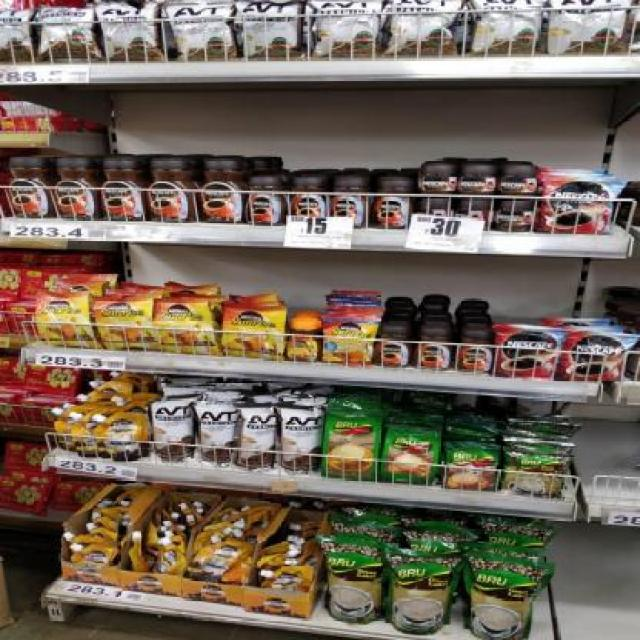Coffee: (542, 179, 612, 233), (148, 158, 197, 222), (498, 326, 556, 380), (196, 160, 244, 225), (51, 157, 100, 220), (157, 299, 214, 352), (224, 307, 281, 359), (100, 155, 145, 220), (6, 156, 51, 220), (38, 292, 91, 346), (95, 296, 151, 346), (564, 334, 624, 380), (324, 316, 370, 364), (330, 177, 372, 228), (372, 177, 414, 228), (245, 175, 287, 223), (287, 177, 328, 226), (457, 329, 494, 374), (413, 327, 452, 368), (285, 320, 324, 360), (374, 327, 412, 367), (500, 199, 538, 230), (461, 165, 496, 193), (502, 165, 536, 193), (420, 165, 454, 192), (462, 198, 492, 228), (423, 196, 451, 218)
